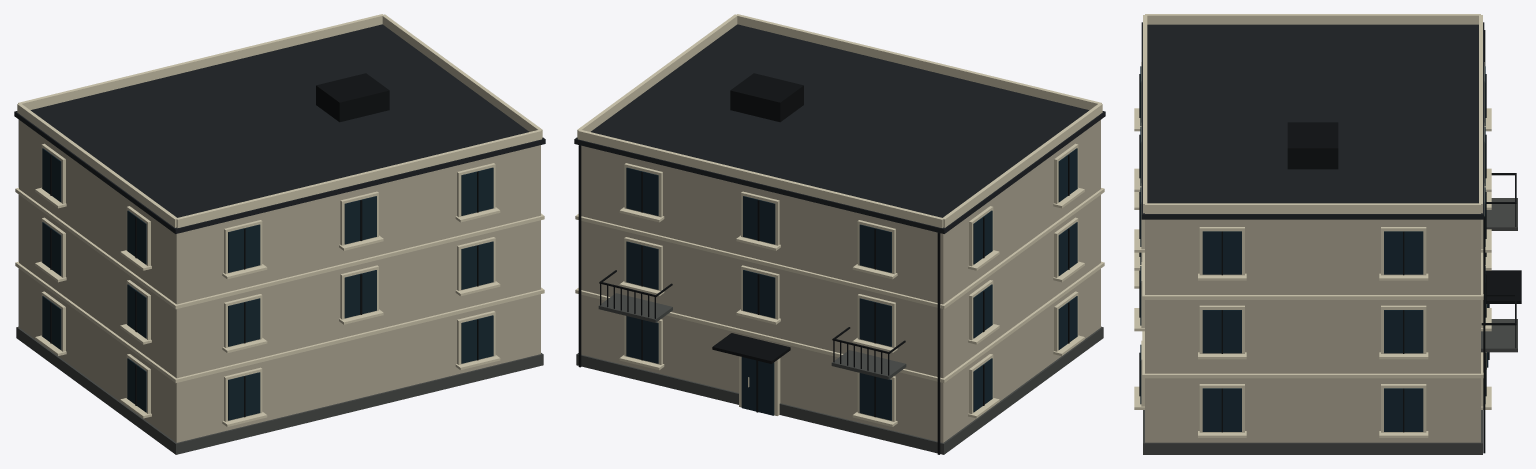
The model's file is 06_ModernCourtyard.obj.
The picture shows the model from 3 angles, left to right: view 1: azimuth 30°, elevation 25°; view 2: azimuth 150°, elevation 25°; view 3: azimuth 270°, elevation 25°; orthographic projection. The views are drawn at different scales.
Parts seen in each view (by area): view 1: Plaster, Roof, Trim, Glass, Base, Metal; view 2: Plaster, Roof, Trim, Glass, Base, Metal; view 3: Roof, Plaster, Trim, Glass, Base, Metal.
Boxes of the visible parts, <box> form: Plaster: <box>19,120,540,442</box>; Roof: <box>14,24,545,233</box>; Trim: <box>15,14,544,426</box>; Glass: <box>42,148,493,420</box>; Base: <box>16,326,543,454</box>; Metal: <box>18,73,478,417</box>; Plaster: <box>581,120,1100,442</box>; Roof: <box>574,24,1105,233</box>; Trim: <box>575,14,1104,426</box>; Glass: <box>626,148,1077,420</box>; Base: <box>576,293,1103,454</box>; Metal: <box>578,73,1069,454</box>; Roof: <box>1141,22,1484,219</box>; Plaster: <box>1145,219,1480,442</box>; Trim: <box>1134,14,1491,437</box>; Glass: <box>1140,66,1488,431</box>; Base: <box>1143,198,1517,454</box>; Metal: <box>1139,30,1521,453</box>.
Bounding box in the file's own units: 16.76 × 10.32 × 13.83.
